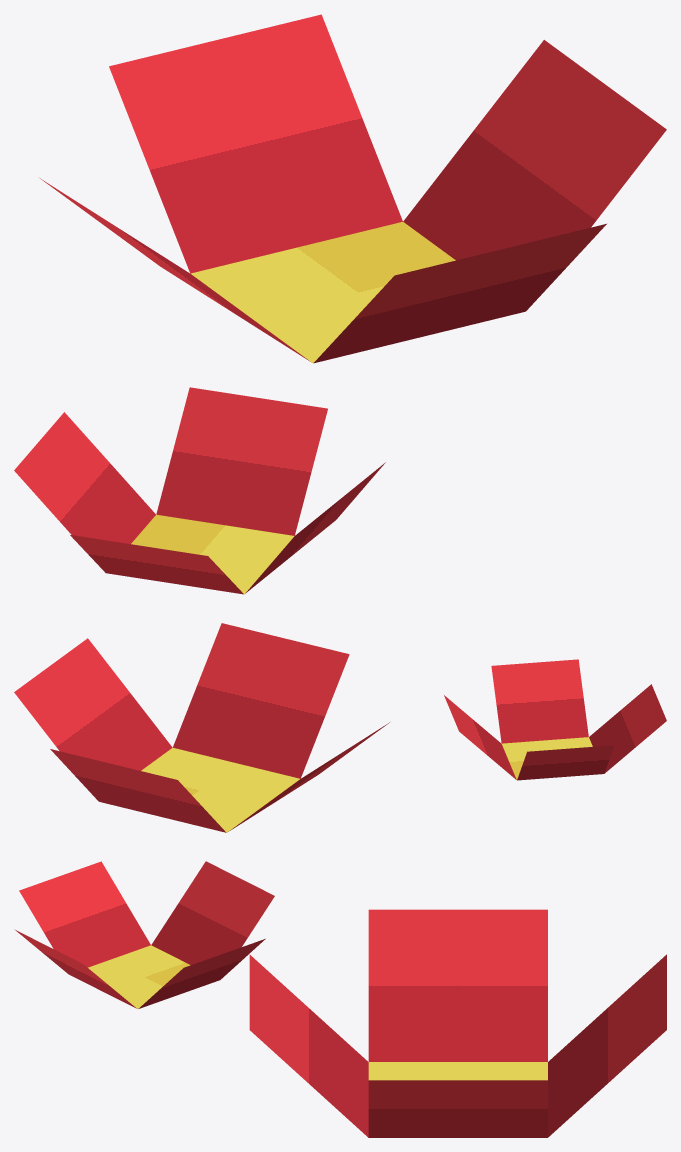
File: cvety_nto_3.gltf
3 renders of one model, top to bottom at view 1: azimuth 30°, elevation 25°; view 2: azimuth 150°, elevation 25°; view 3: azimuth 270°, elevation 25°, orthographic. The views are drawn at different scales.
Parts seen in each view (by area): view 1: C3; view 2: C3; view 3: C3.
Boxes of the visible parts, left/top/right/bottom form: C3: left=14, top=14, right=666, bottom=594; C3: left=14, top=623, right=666, bottom=832; C3: left=14, top=861, right=666, bottom=1137.
Size of the model in its own units: 0.3666 by 0.0725 by 0.3638.
Materials: 1 (1 with a texture image).
